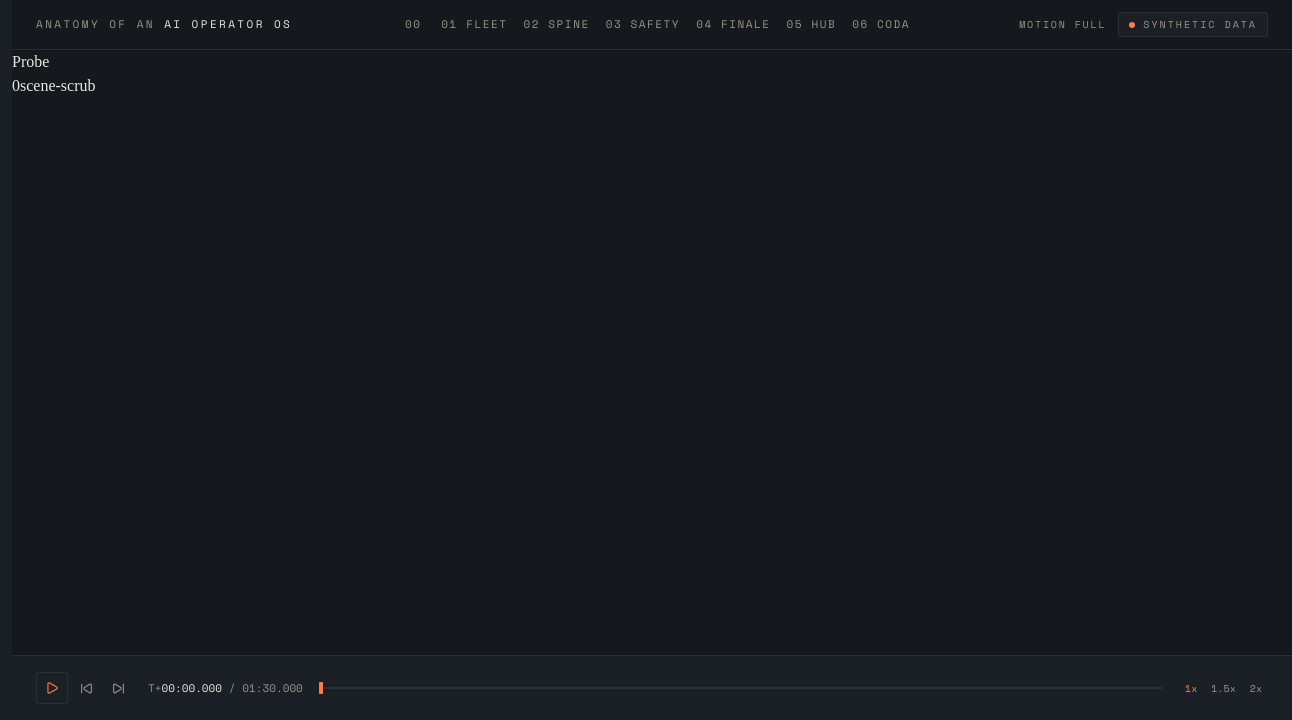
Test: transport permalinks › writes the boundary chosen by the previous/next event buttons
Click the button named "Step to next event": (118, 688) [104,672,132,704]
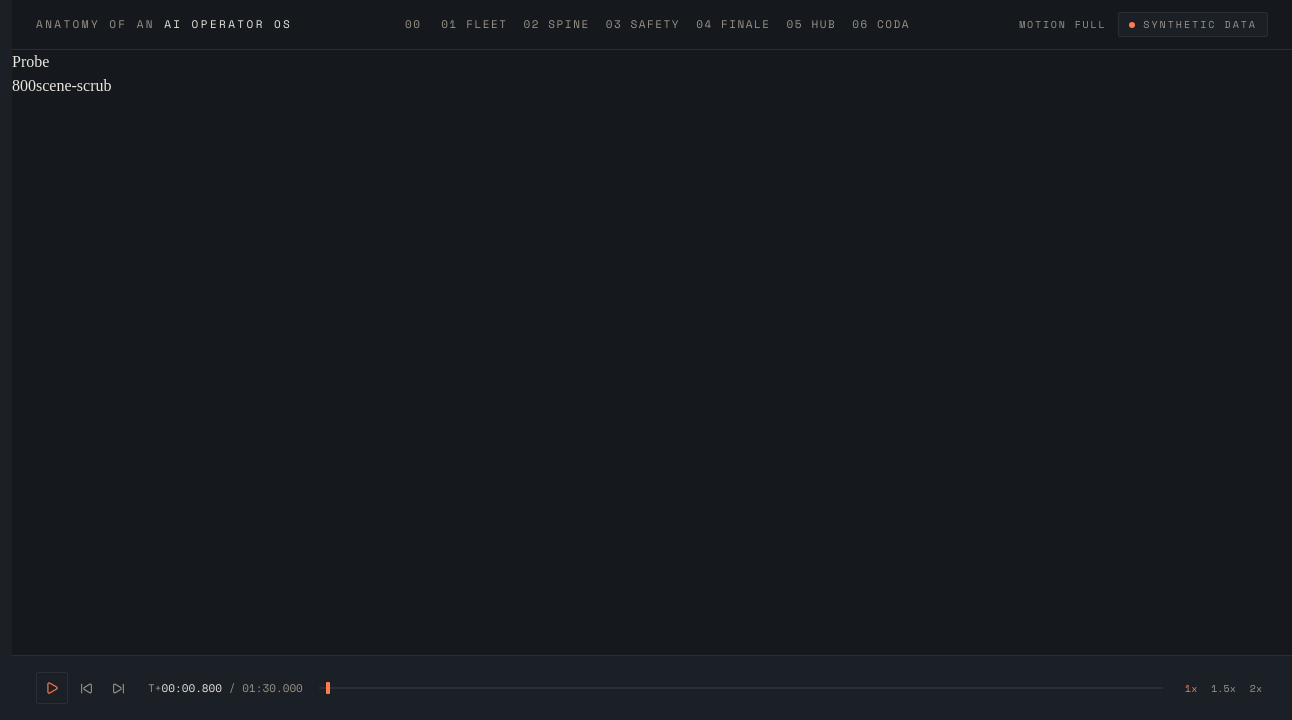
expect the text with test id "t" reads "800": met, box [12,77,36,94]
Click the button named "Step to next event": (118, 688) [104,672,132,704]
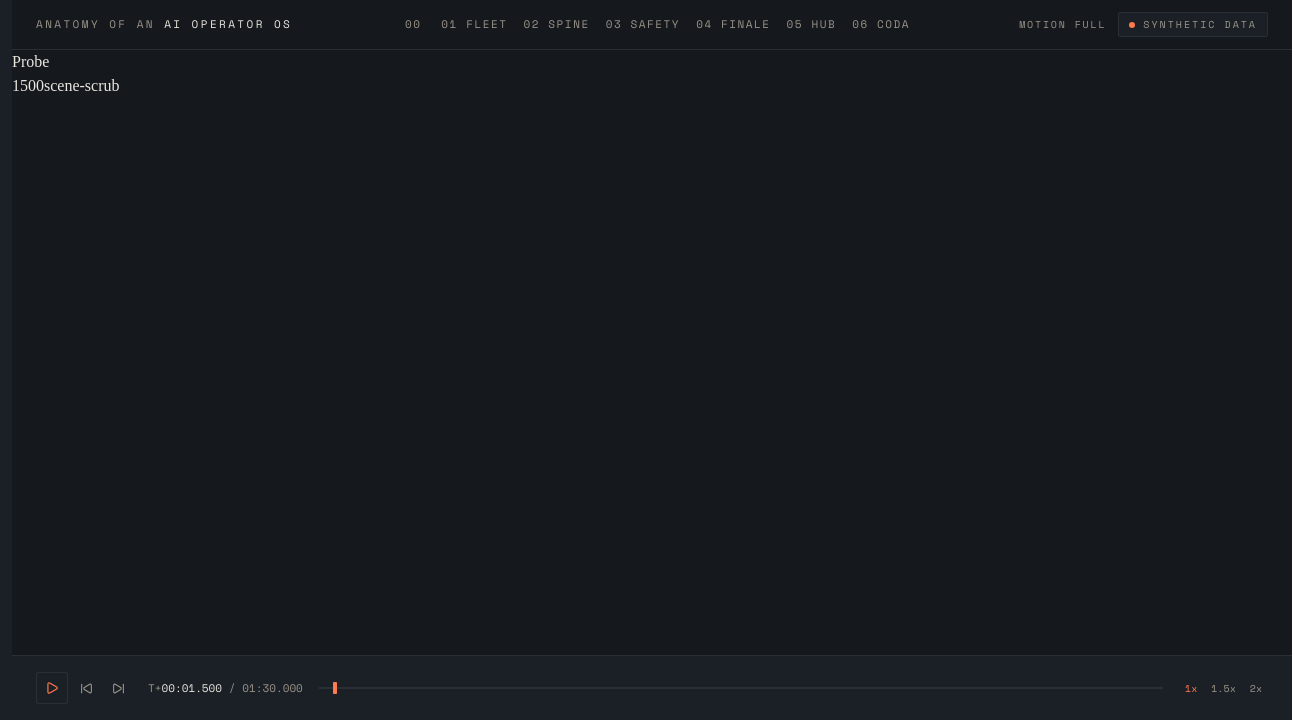
Click the button named "Step to previous event": (86, 688) [72,672,100,704]
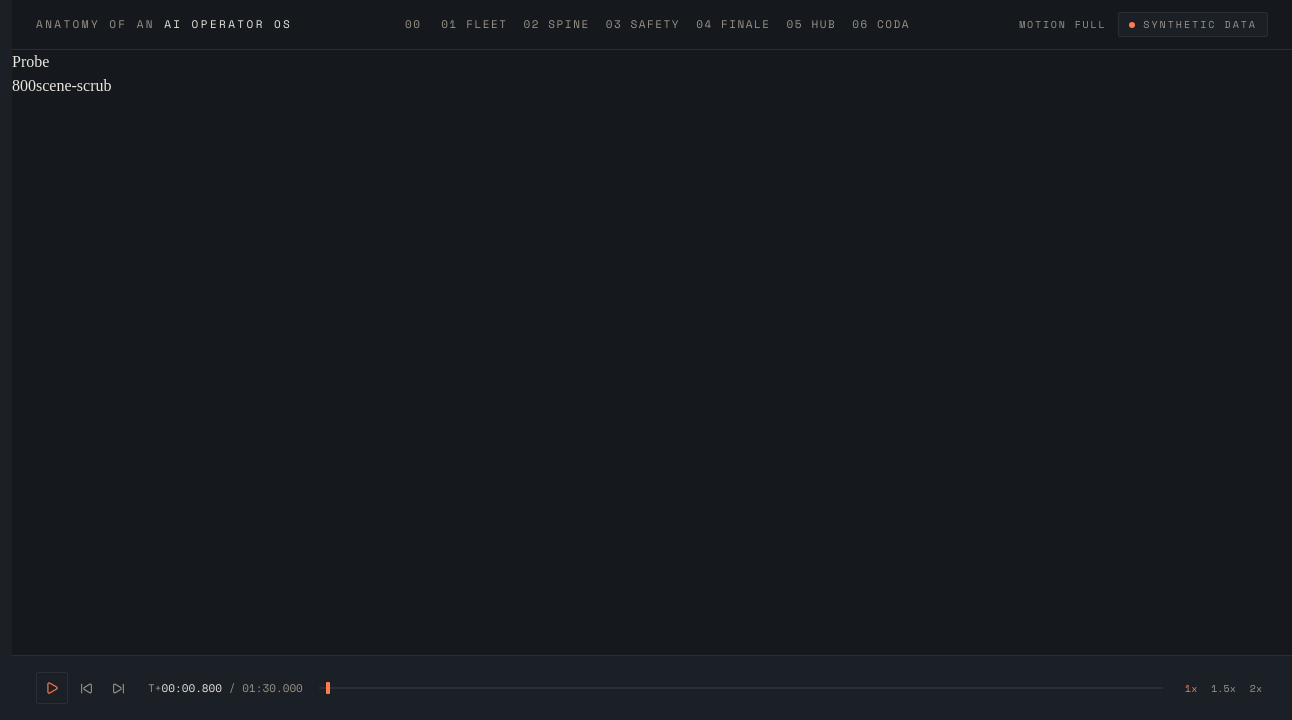
expect the text with test id "t" reads "800": met, box [12,77,36,94]
